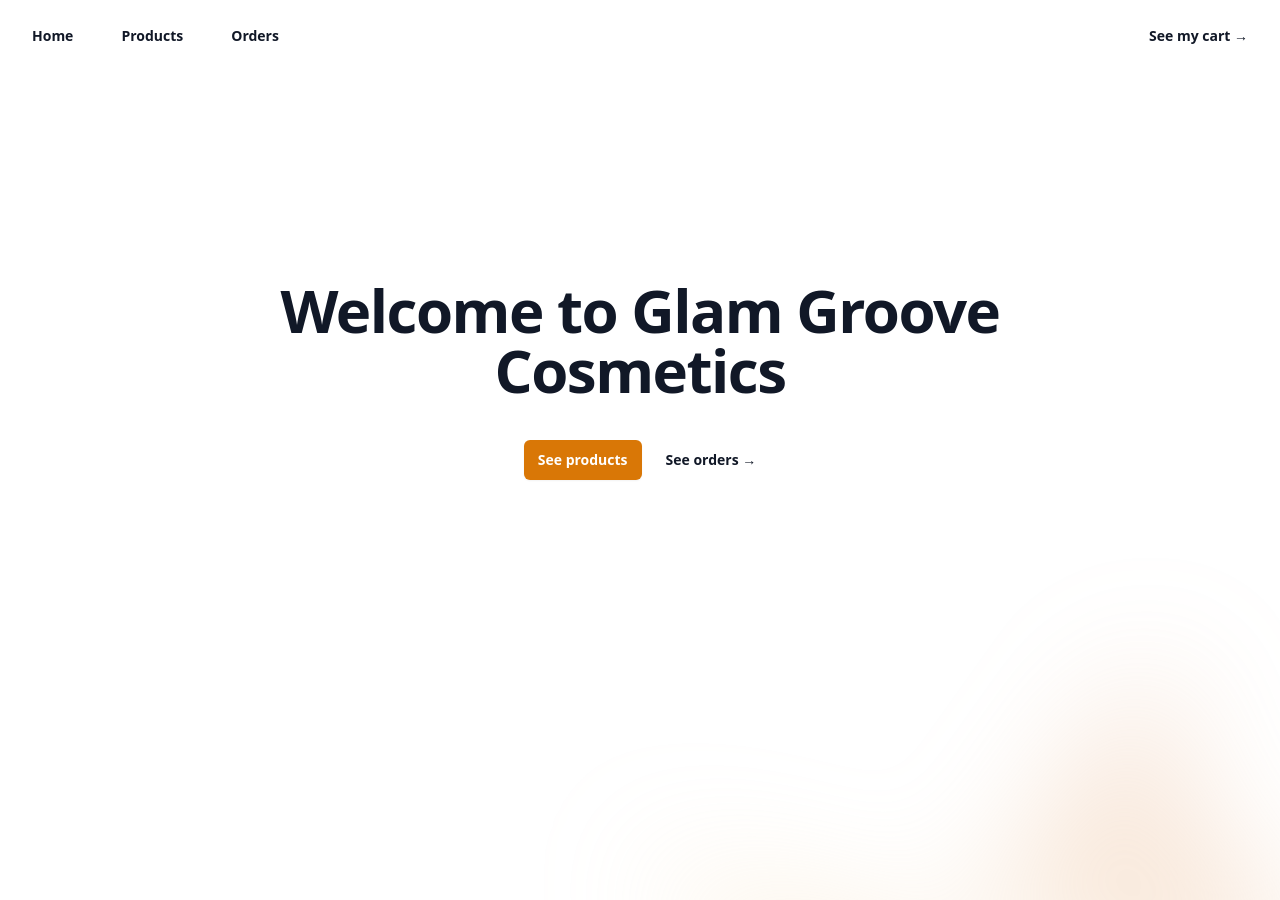
Test: Home page › should allow the user to navigate to orders page
This screenshot has width=1280, height=900.
Click the link to "/orders": {"x": 255, "y": 36} [231,24,279,48]
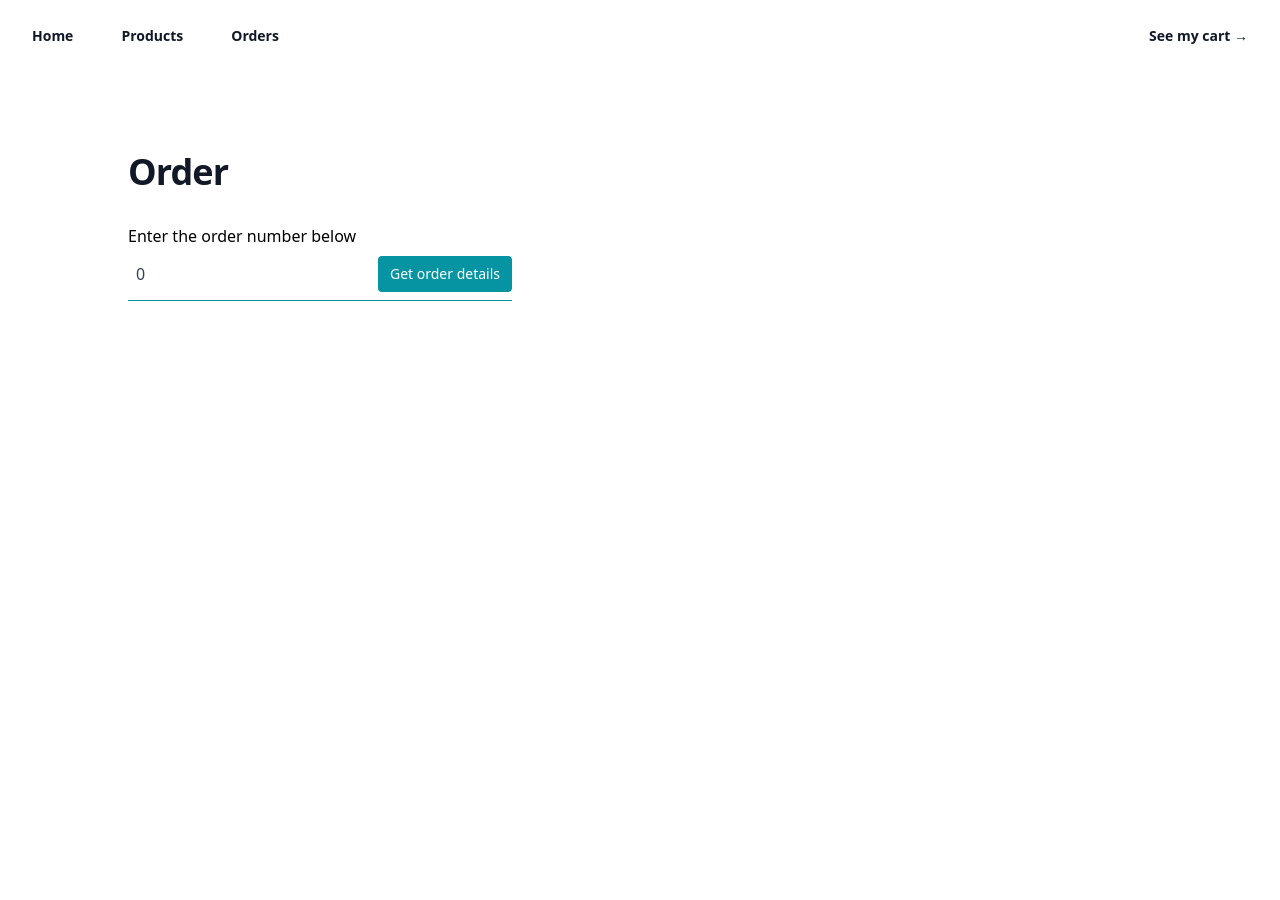
Expected: the heading "Order" is shown, [128,147,228,196]
